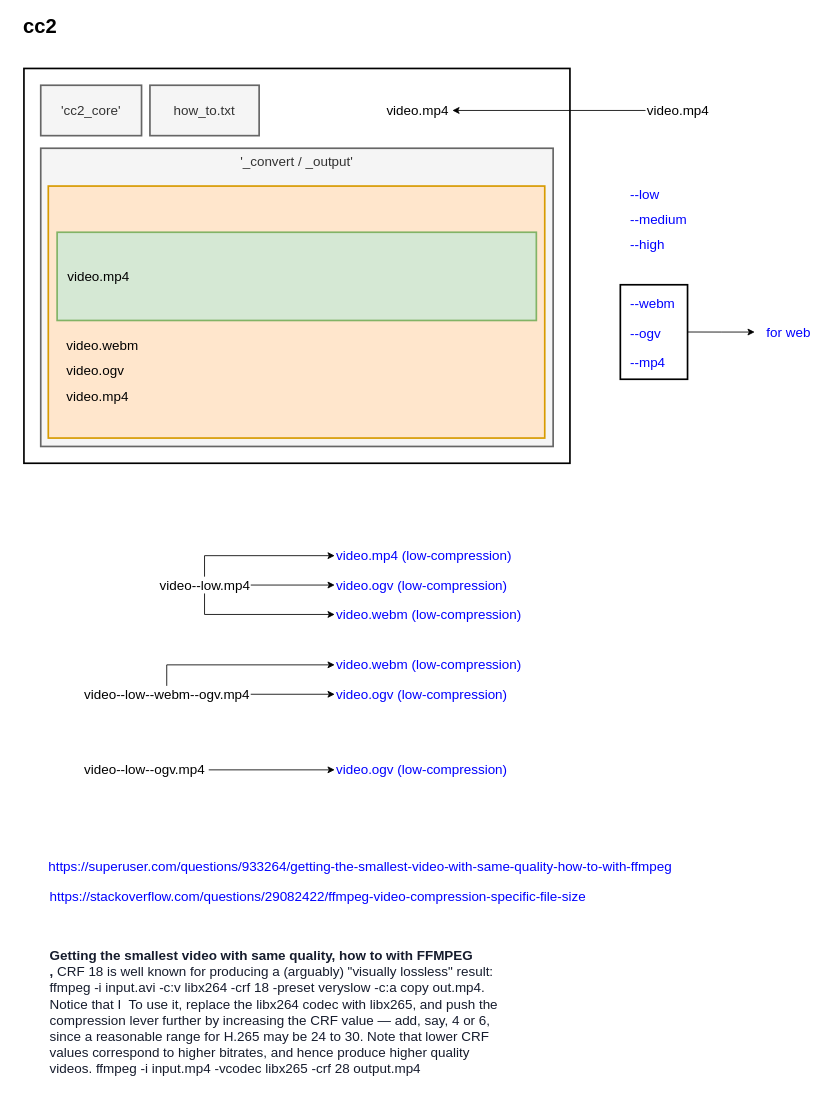
This 832x1116 diagram has some shape labels left out. Here are the shapes that lost their labels. From the top down, the box of each, then its label:
(56, 231, 537, 321): '_orig'
(47, 185, 545, 438): 'filename'
